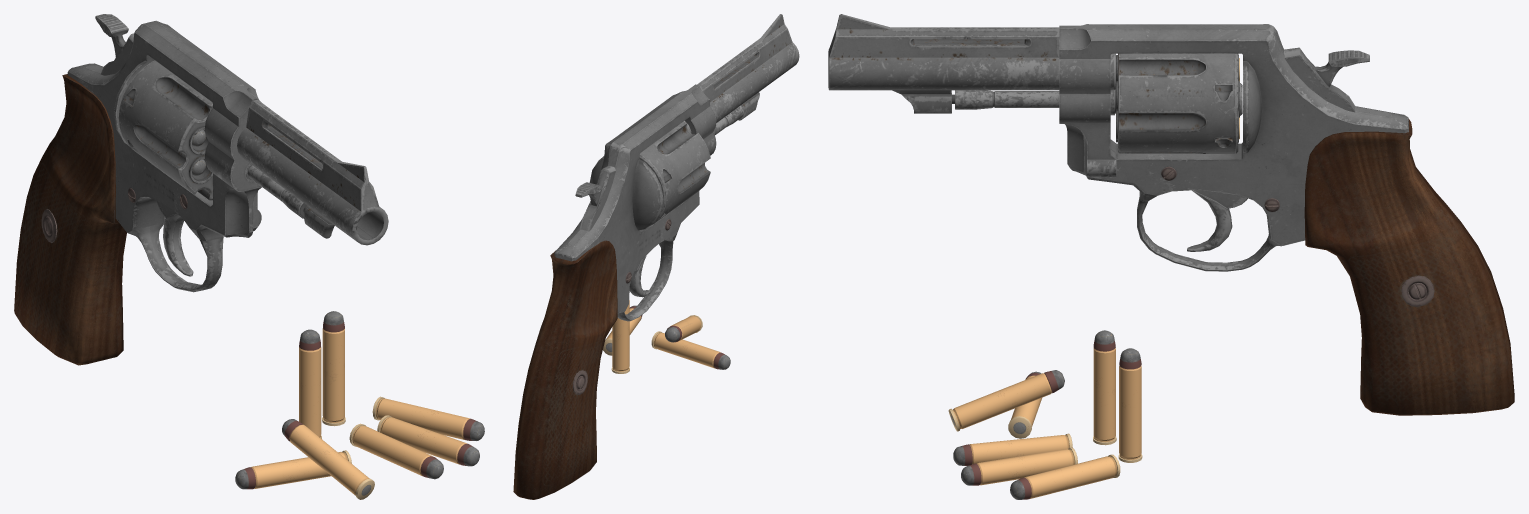
The model's file is zuolun.glb.
The picture shows the model from 3 angles, left to right: view 1: azimuth 30°, elevation 25°; view 2: azimuth 150°, elevation 25°; view 3: azimuth 270°, elevation 25°; orthographic projection. The views are drawn at different scales.
Visible parts, largest first — view 1: a_low, b_low, bullet_low_poly008, g_low, c_low, d_low_07 - Default_0, e_low_07 - Default_0, f_low; view 2: a_low, b_low, g_low, c_low, bullet_low_poly008, d_low_07 - Default_0, e_low_07 - Default_0, f_low; view 3: a_low, b_low, g_low, bullet_low_poly008, c_low, h_low_07 - Default_0, d_low_07 - Default_0, f_low, e_low_07 - Default_0.
Part boxes in pixels (bbox=[...]): a_low: bbox=[14, 74, 126, 365]; b_low: bbox=[67, 20, 269, 292]; bullet_low_poly008: bbox=[192, 130, 484, 499]; g_low: bbox=[237, 99, 388, 245]; c_low: bbox=[118, 60, 212, 200]; d_low_07 - Default_0: bbox=[95, 14, 133, 75]; e_low_07 - Default_0: bbox=[156, 201, 193, 276]; f_low: bbox=[247, 165, 307, 218]; a_low: bbox=[513, 240, 617, 499]; b_low: bbox=[554, 84, 716, 321]; g_low: bbox=[684, 14, 799, 133]; c_low: bbox=[601, 121, 710, 225]; bullet_low_poly008: bbox=[603, 300, 730, 373]; d_low_07 - Default_0: bbox=[575, 166, 615, 231]; e_low_07 - Default_0: bbox=[629, 255, 650, 297]; f_low: bbox=[713, 105, 744, 135]; a_low: bbox=[1304, 119, 1514, 415]; b_low: bbox=[1059, 24, 1408, 271]; g_low: bbox=[828, 14, 1115, 113]; bullet_low_poly008: bbox=[948, 58, 1239, 499]; c_low: bbox=[1116, 53, 1239, 153]; h_low_07 - Default_0: bbox=[1059, 94, 1116, 176]; d_low_07 - Default_0: bbox=[1284, 47, 1369, 112]; f_low: bbox=[952, 83, 1242, 115]; e_low_07 - Default_0: bbox=[1187, 190, 1247, 251].
Bounding box in the file's own units: 1.03 × 1.5 × 2.4.
2 materials, 2 textured.
